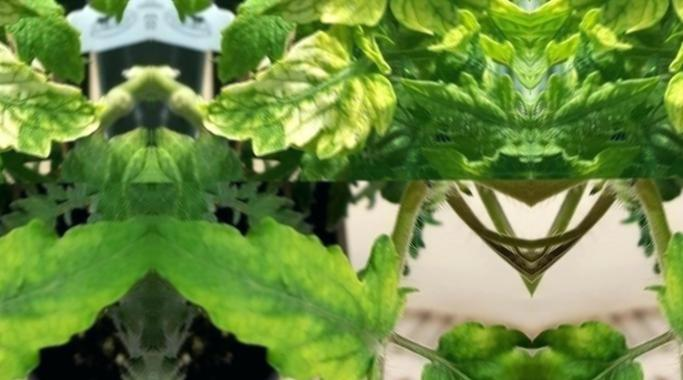Tomato leaf yellow virus: (152, 200, 416, 380), (191, 33, 392, 157), (401, 321, 534, 380), (370, 0, 530, 46), (242, 0, 381, 48), (149, 0, 225, 28)
